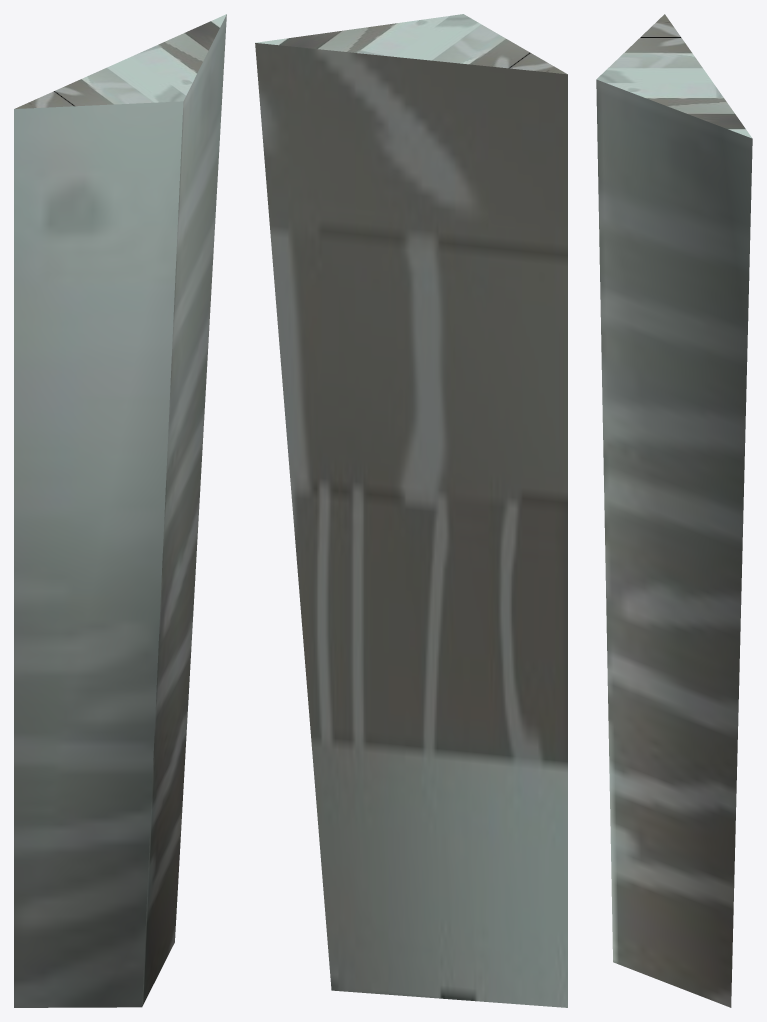
Rendered from log.glb.
3 renders of one model, left to right at view 1: azimuth 30°, elevation 25°; view 2: azimuth 150°, elevation 25°; view 3: azimuth 270°, elevation 25°, orthographic. The views are drawn at different scales.
Parts seen in each view (by area): view 1: Log; view 2: Log; view 3: Log.
Part boxes in pixels (<box>): Log: <box>14,14,226,1007</box>; Log: <box>255,14,567,1007</box>; Log: <box>596,14,752,1007</box>.
Size of the model in its own units: 0.1972 by 0.6634 by 0.1045.
Materials: 1 (1 with a texture image).
